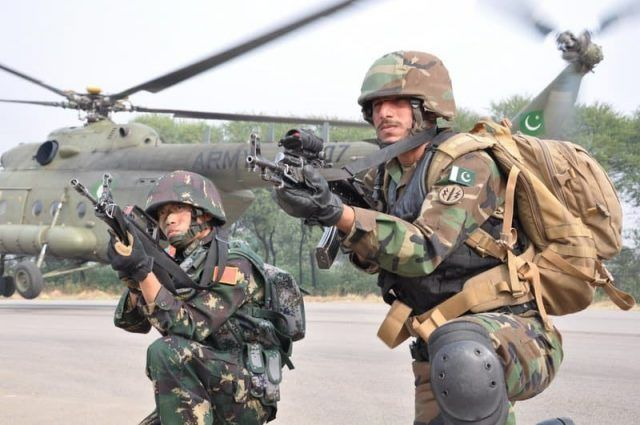gun: (236, 123, 398, 264), (54, 163, 191, 296)
uniform: (351, 32, 581, 421), (102, 144, 303, 412)
